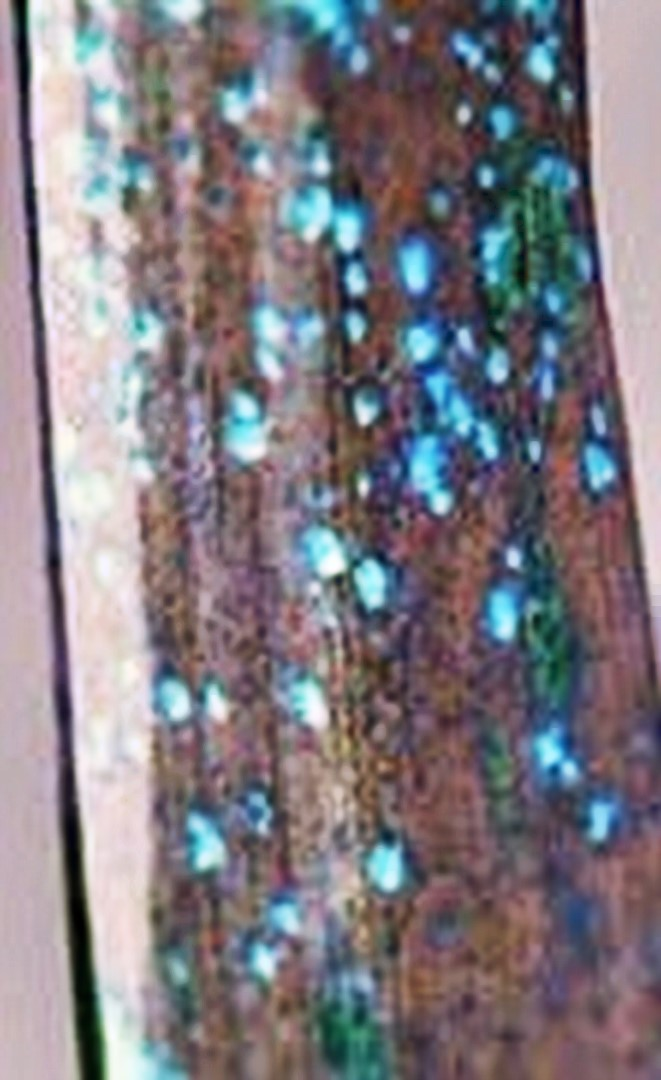Leaf Rust: (38, 68, 661, 1018)
